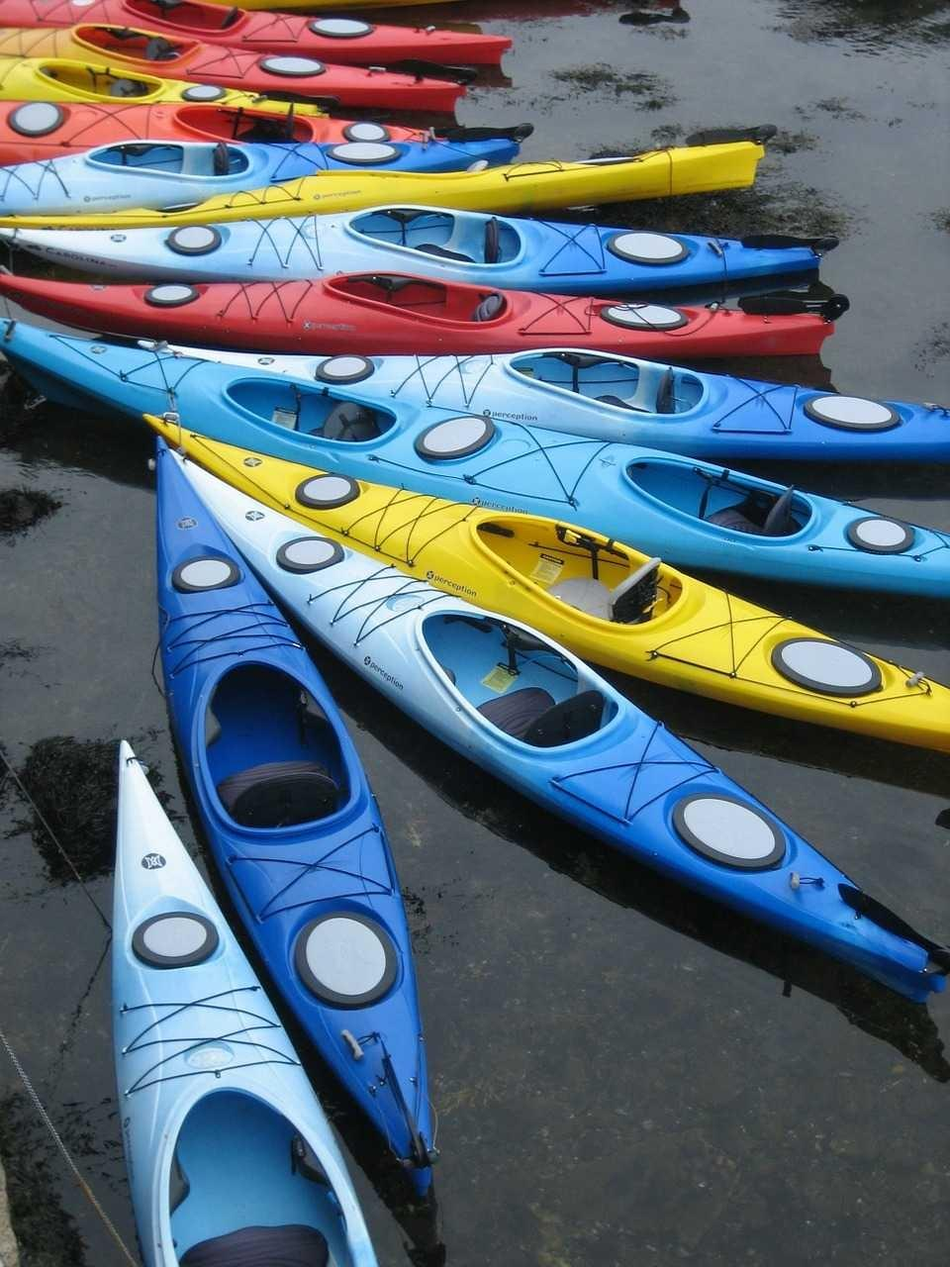kayak: (151, 449, 948, 1009), (3, 322, 950, 731), (150, 438, 439, 1195), (110, 740, 396, 1267), (3, 253, 836, 359), (3, 142, 780, 244), (4, 96, 532, 221), (7, 5, 516, 96)
